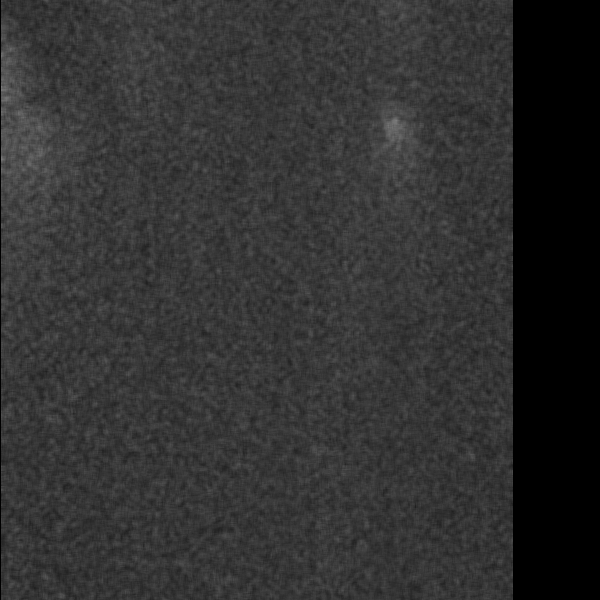spark: (382, 110, 407, 162)
